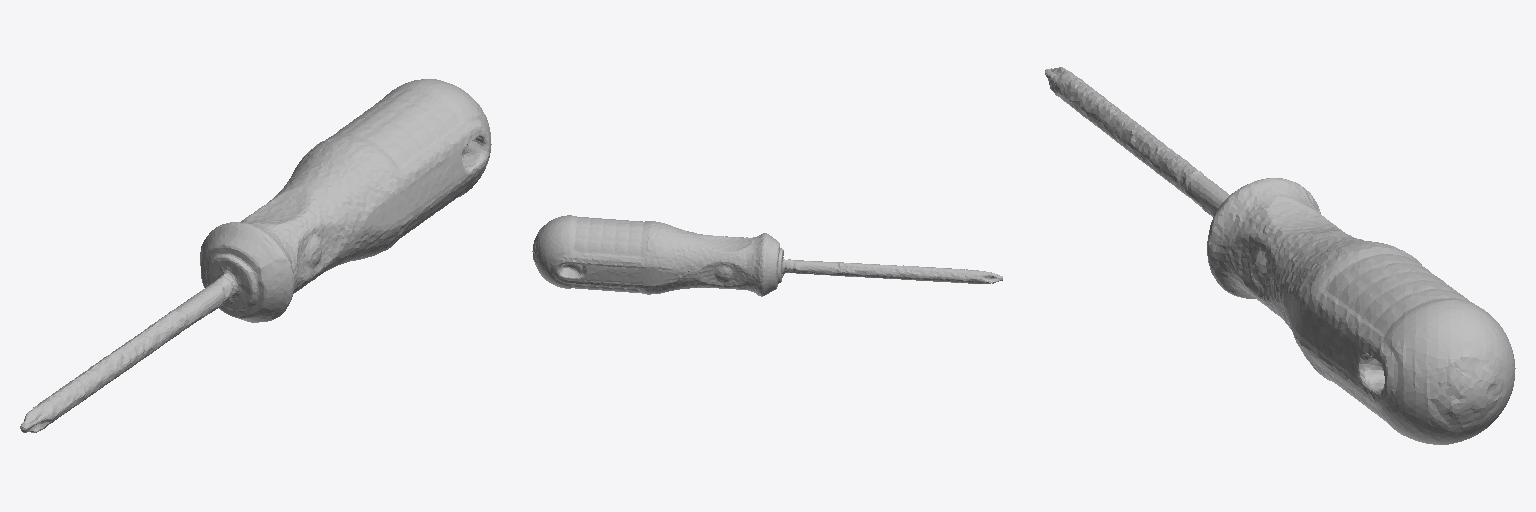
URDF robot description (root):
<?xml version="1.0"?>
<robot name="root">
  <link name="base_link">
    <visual>
      <origin xyz="0 0 0" rpy="0 0 0" />
      <geometry>
        <mesh filename="../meshes/043_phillips_screwdriver.stl" scale="1.0000E+00 1.0000E+00 1.0000E+00" />
      </geometry>
      <material name="">
        <color rgba="7.50E-01 7.50E-01 7.50E-01 1" />
      </material>
    </visual>
    <collision>
      <origin xyz="0 0 0" rpy="0 0 0" />
      <geometry>
        <mesh filename="../meshes/043_phillips_screwdriver.stl" scale="1.0000E+00 1.0000E+00 1.0000E+00" />
      </geometry>
    </collision>
  </link>
</robot>

--- Facts derived from the render (not from the file) ---
3 views of the same robot in one strip: view 1: azimuth 30°, elevation 25°; view 2: azimuth 150°, elevation 25°; view 3: azimuth 270°, elevation 25° (orthographic).
Robot: root — 1 links, 0 joints (none); root link base_link; default pose: every joint at zero.
Links seen in each view (by area): view 1: base_link; view 2: base_link; view 3: base_link.
Boxes of the visible links, bbox=[...] form: base_link: bbox=[20, 79, 491, 432]; base_link: bbox=[532, 215, 1002, 296]; base_link: bbox=[1045, 67, 1515, 444].
Size in the robot's own frame: 0.1949 by 0.107 by 0.0355 metres.
Meshes: 1 distinct files referenced, 1 mesh visuals loaded (1 binary STL).
